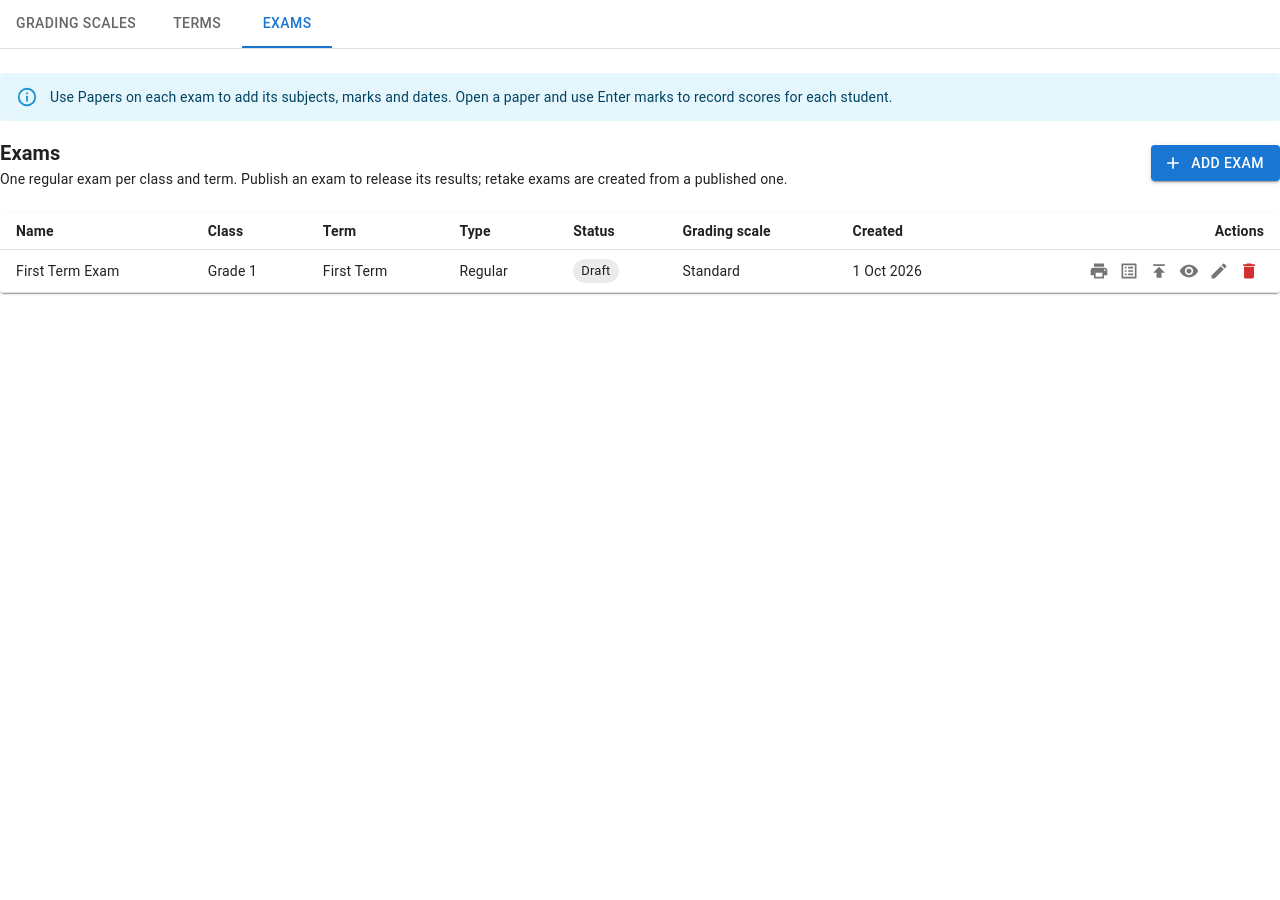
Scenario: ExaminationsManager exams › opens the datesheet for the exam
Click the button named "Documents" at (1099,271), box [1084,256,1114,286]
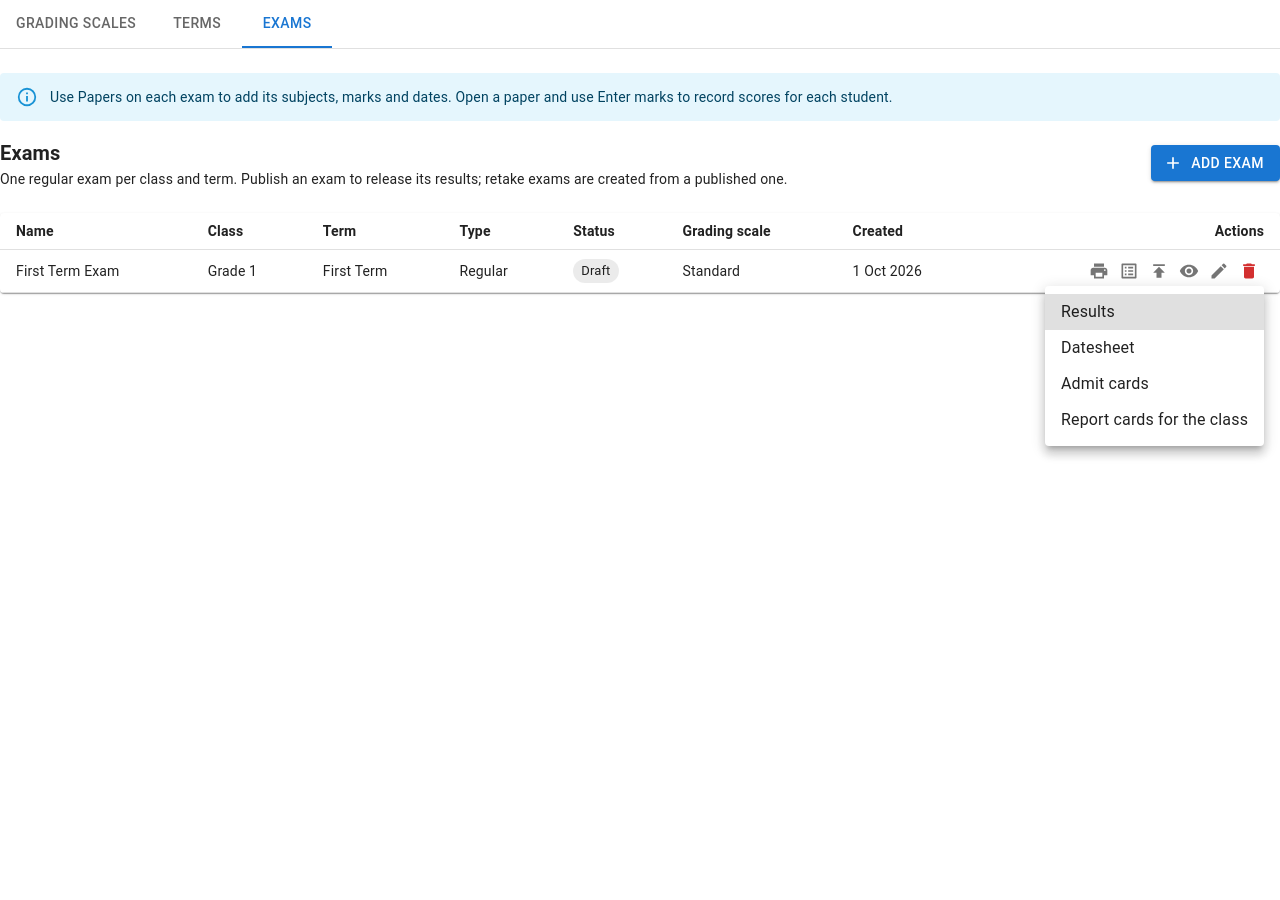
Click the menu item "Datesheet" at (1098,348), box [1061,338,1134,357]
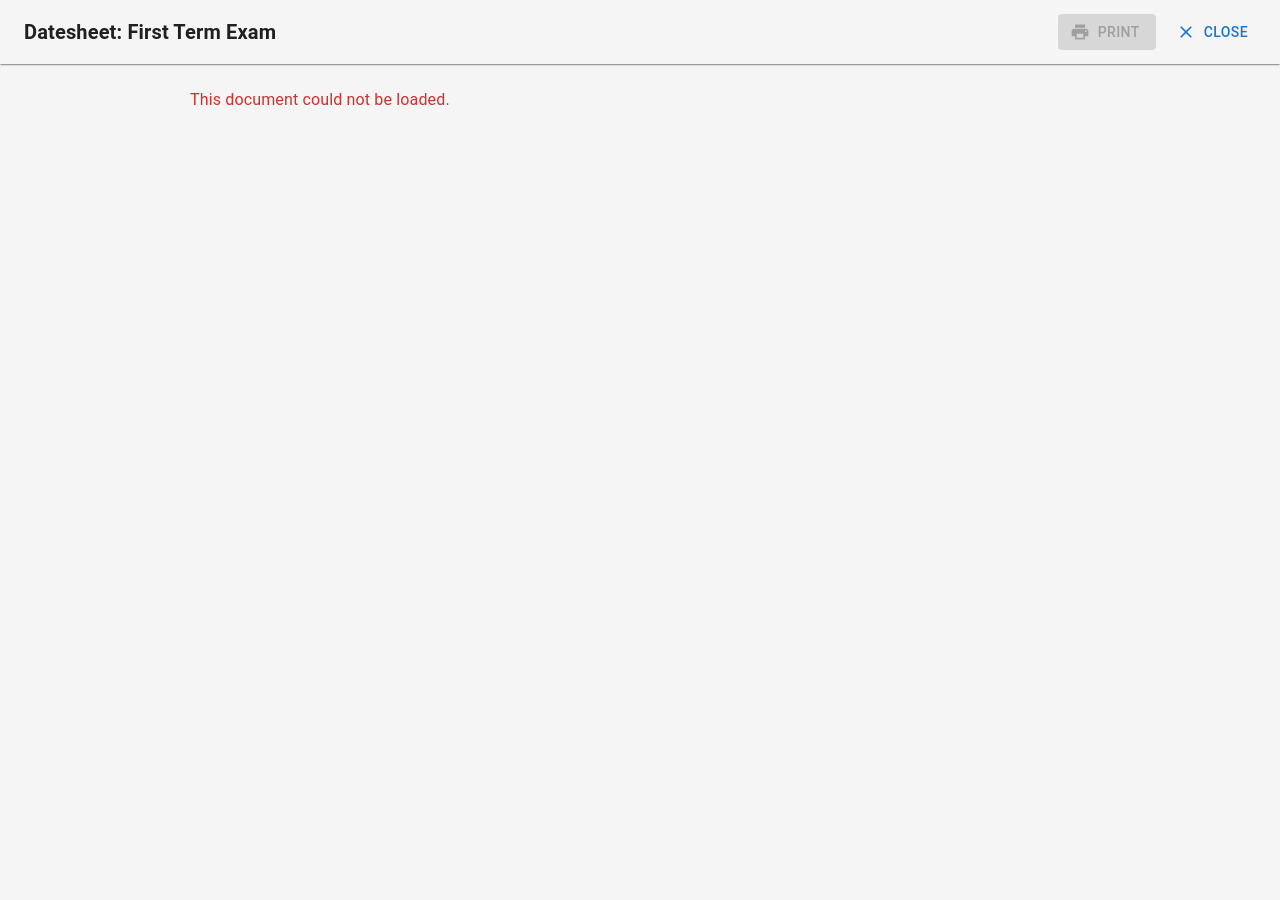
Result: the heading "Datesheet: First Term Exam" is shown at [24,20,276,44]
